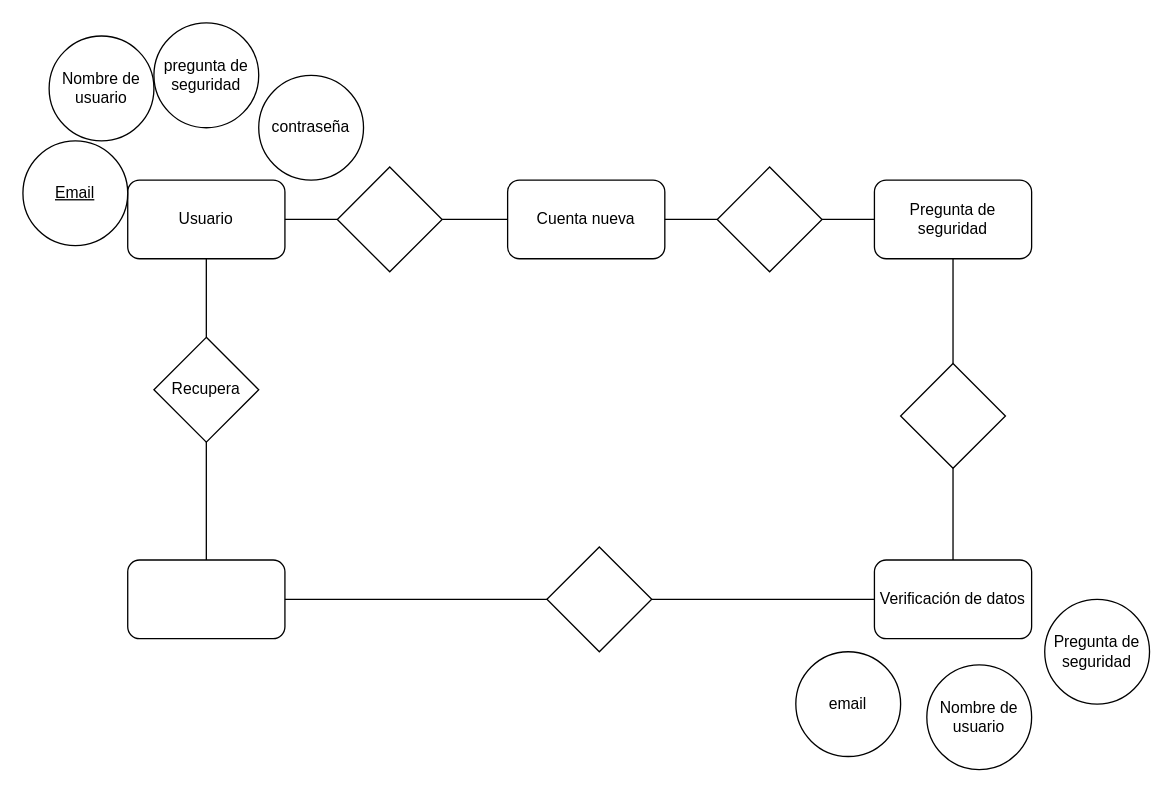
This 1172x793 diagram has some shape labels left out. The shapes that lost their labels are listed below. From the top down, each one's centre as x and y in pixels, then its label:
(389,219): Asignada
(769,219): otorga
(952,415): Asigna
(205,599): Cuenta
(599,599): Pide
